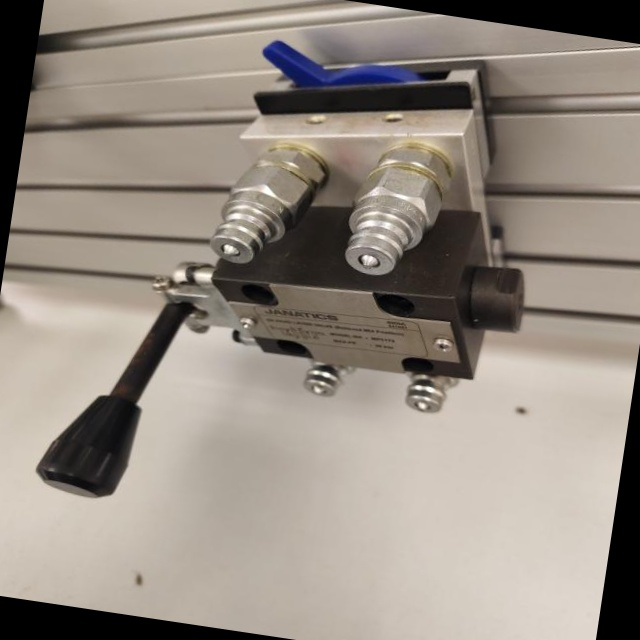4by3 hand lever valve: (10, 0, 573, 570)
